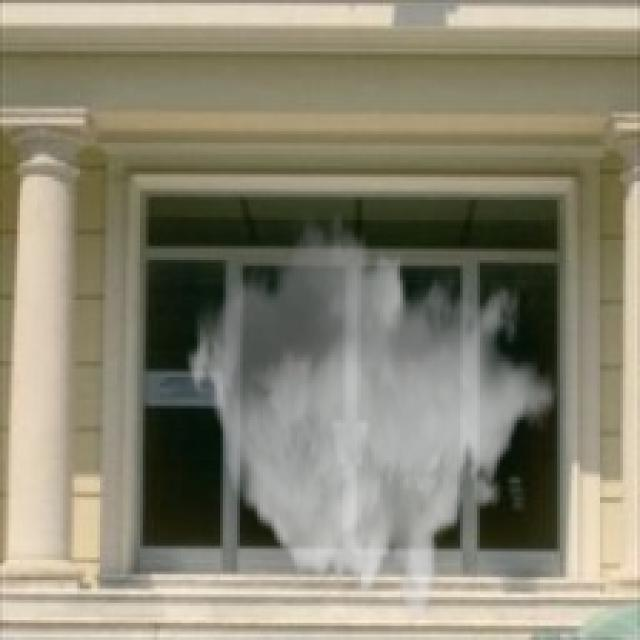smoke: (183, 208, 557, 626)
